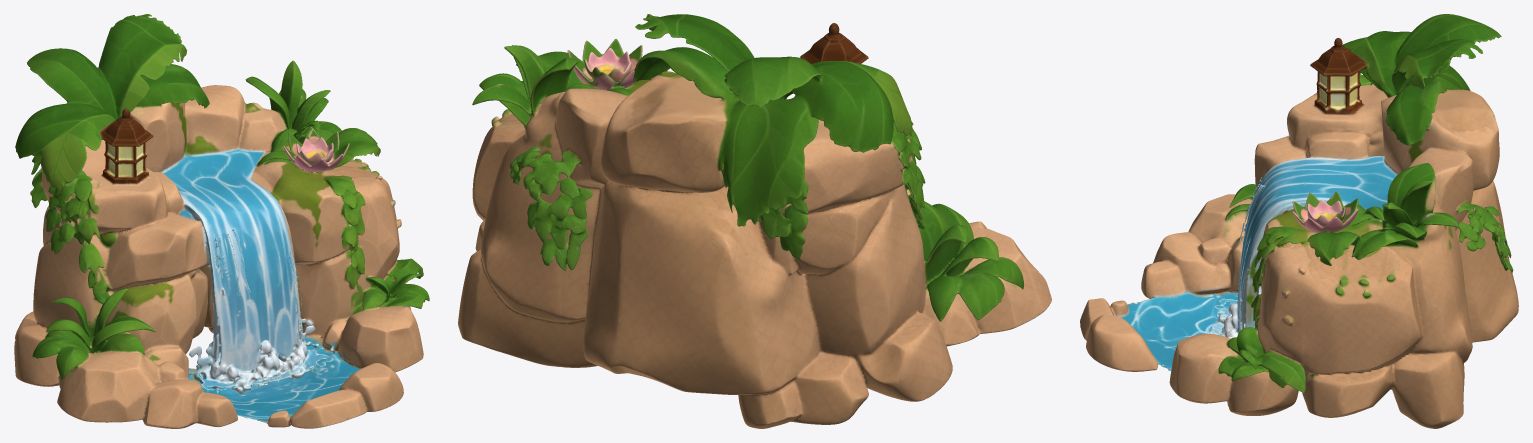
File: meshy-froggy-lantern-oasis-b.glb
3 views of the same model, side by side, from view 1: azimuth 30°, elevation 25°; view 2: azimuth 150°, elevation 25°; view 3: azimuth 270°, elevation 25° (orthographic). The views are drawn at different scales.
Size of the model in its own units: 1.82 by 1.36 by 1.77.
1 material, 1 textured.
